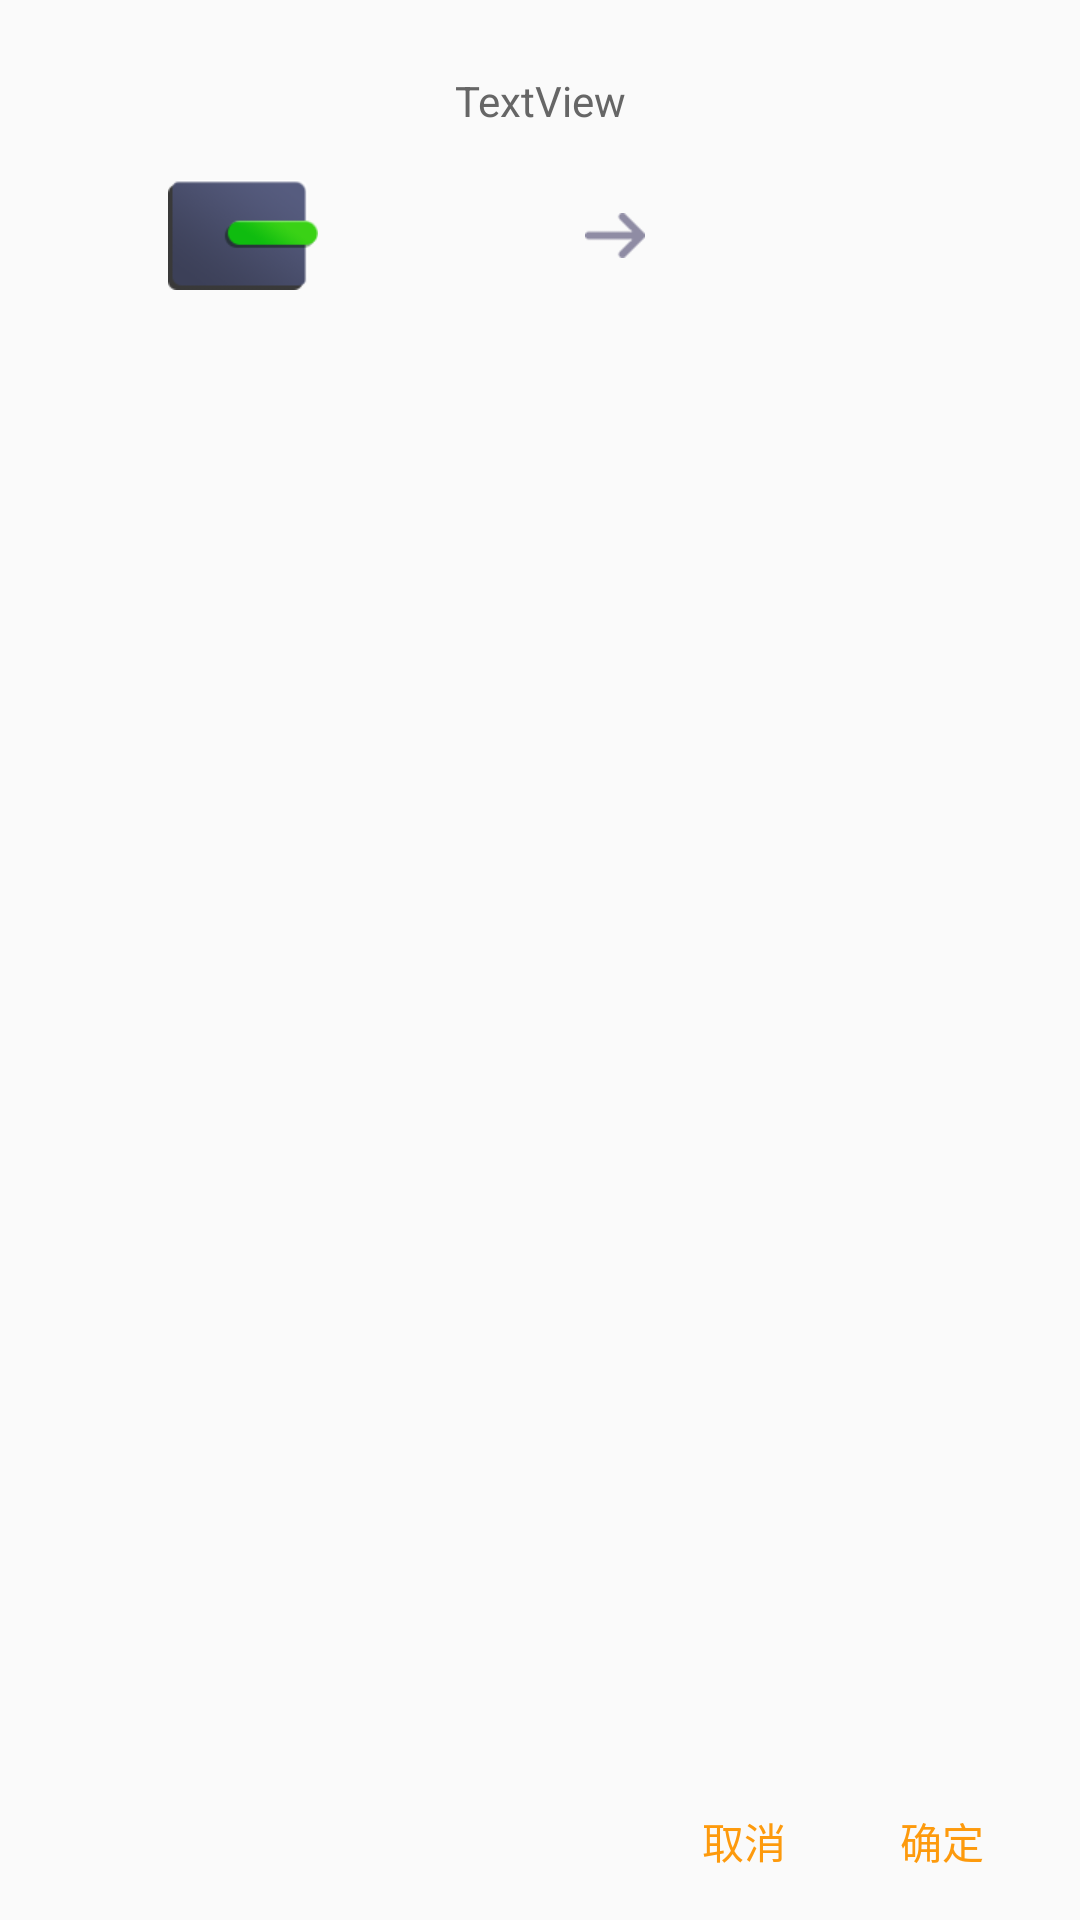

Locate icon controls on the screen. Image size 1080w x 1920h, boxes as (x1, y1, x2, y2).
arrow: (585, 213, 645, 258)
